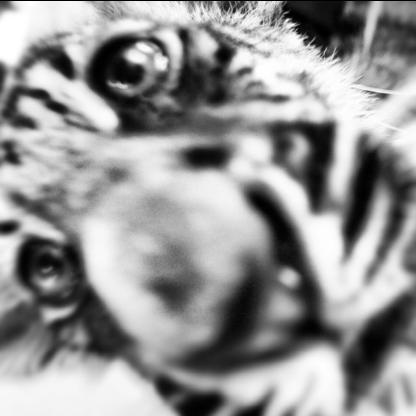tiger: (0, 2, 416, 416)
